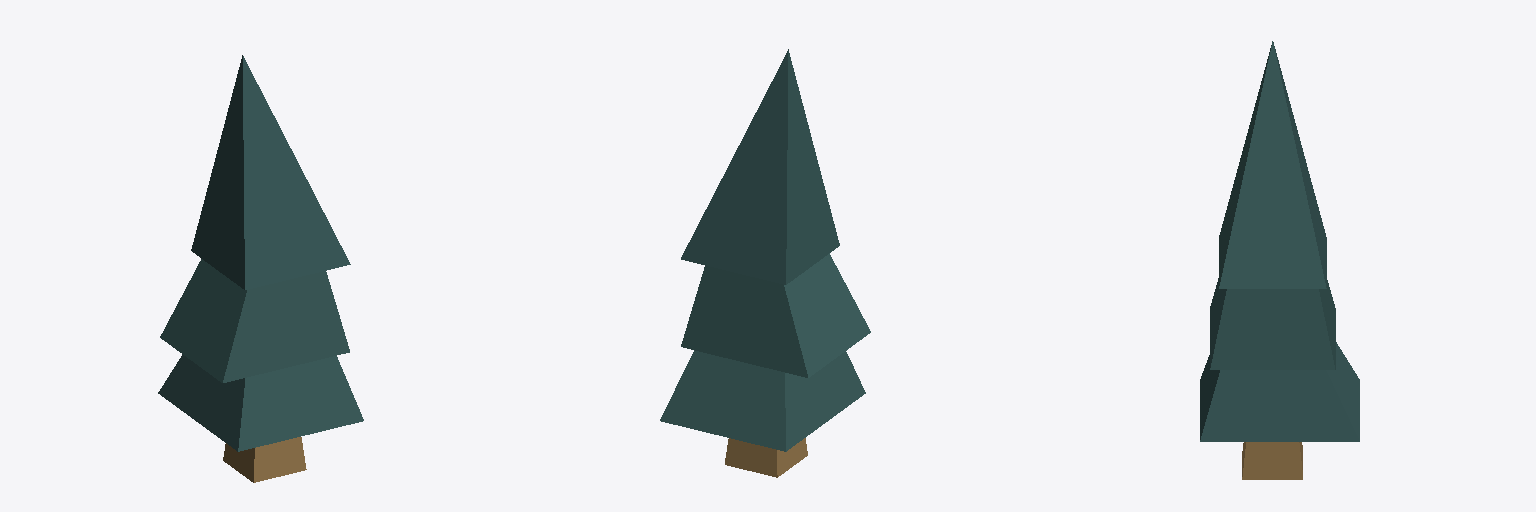
The picture shows the model from 3 angles: view 1: azimuth 30°, elevation 25°; view 2: azimuth 150°, elevation 25°; view 3: azimuth 270°, elevation 25°; orthographic projection.
Visible parts, largest first — view 1: Mesh1 Tree Model; view 2: Mesh1 Tree Model; view 3: Mesh1 Tree Model.
Part boxes in pixels (x1,y1,x2,y2): Mesh1 Tree Model: (158,55,363,482); Mesh1 Tree Model: (660,49,870,477); Mesh1 Tree Model: (1200,41,1359,479).
Bounding box in the file's own units: 1.28 × 3.71 × 1.3.
1 materials, 1 textured.